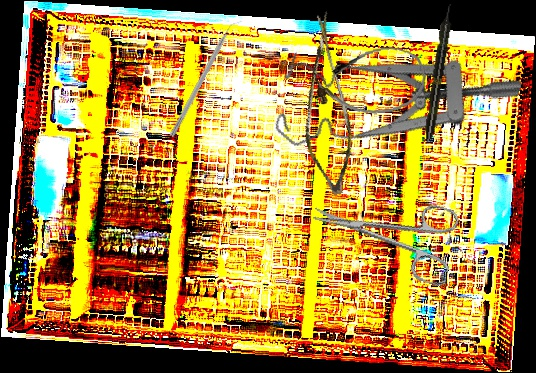Cannula: (311, 42, 430, 121)
Chopper: (169, 15, 244, 142)
Handpiece: (422, 2, 456, 143)
Iris Scissors: (304, 173, 465, 288)
Micro Scissor: (272, 9, 377, 199)
Speculum: (265, 6, 523, 210)
